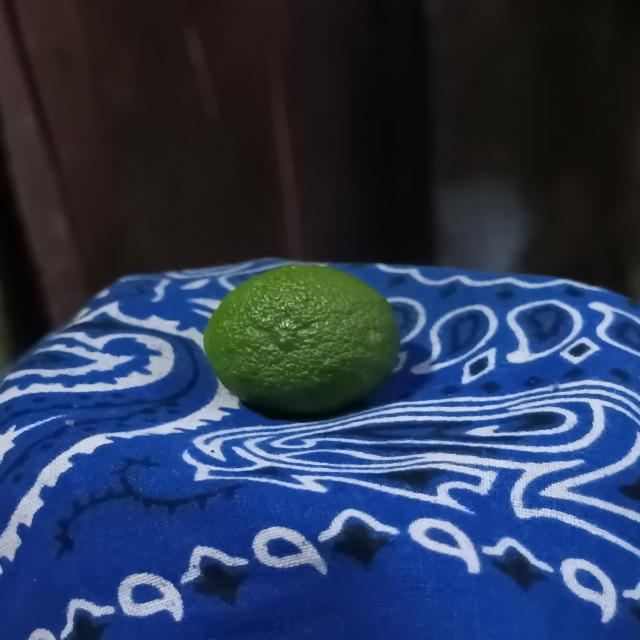heathy: (199, 256, 413, 416)
